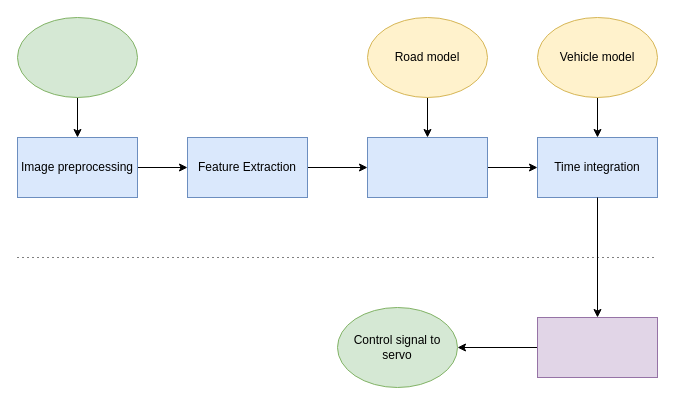
This 676x405 diagram has some shape labels left out. The box of each missing label's shape, as (x1, y1, x2, y2) in pixels:
Image acquisition from camera: (16, 16, 138, 98)
Lateral control: (536, 316, 658, 378)
Model fitting: (366, 136, 488, 198)
